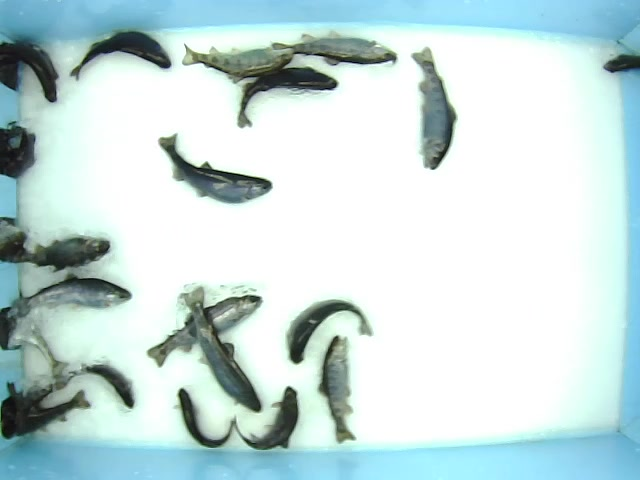fish: (178, 285, 263, 414), (146, 294, 264, 369), (157, 131, 274, 204), (236, 65, 339, 129), (285, 298, 374, 366), (409, 47, 457, 170), (12, 272, 136, 319), (69, 30, 172, 81), (271, 28, 399, 65), (181, 43, 295, 83), (232, 385, 300, 452), (315, 335, 355, 443), (172, 387, 236, 449), (11, 234, 112, 271), (65, 359, 136, 410)
